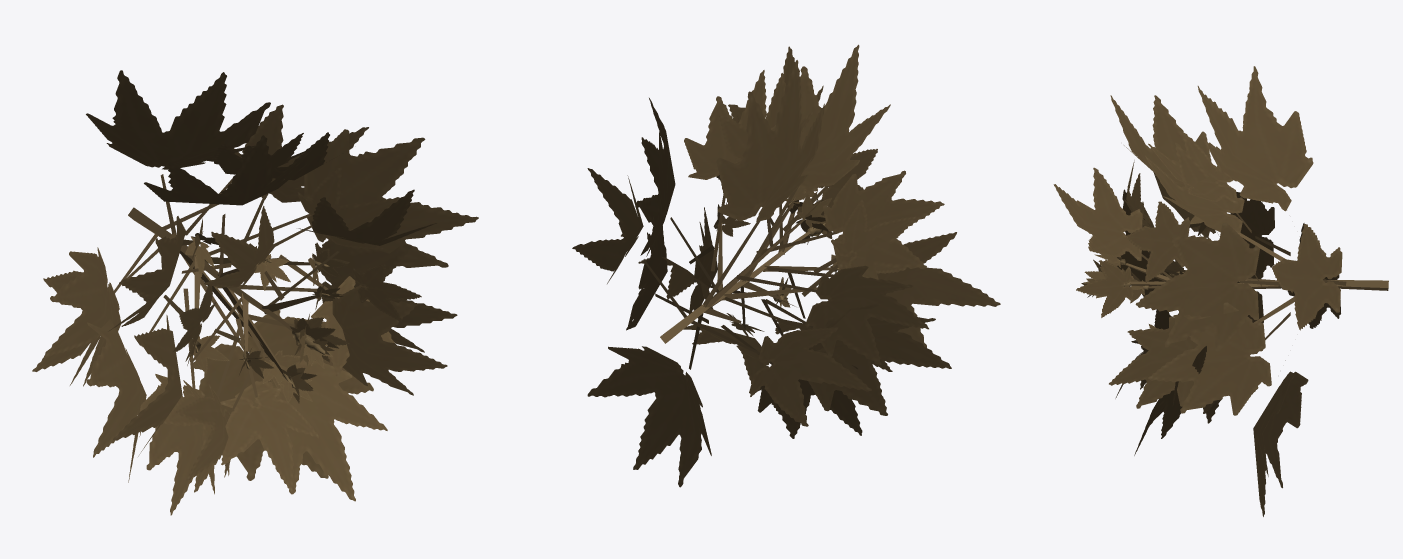
Rendered from p_kush_preflower_c3_cards.obj.
3 renders of one model, left to right at view 1: azimuth 30°, elevation 25°; view 2: azimuth 150°, elevation 25°; view 3: azimuth 270°, elevation 25°, orthographic. The views are drawn at different scales.
Size of the model in its own units: 1.29 by 1.63 by 1.08.
1 material, 1 textured.
